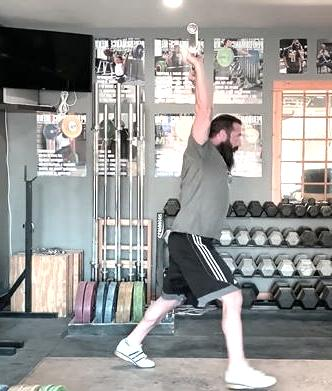Barbell: (183, 21, 197, 37)
